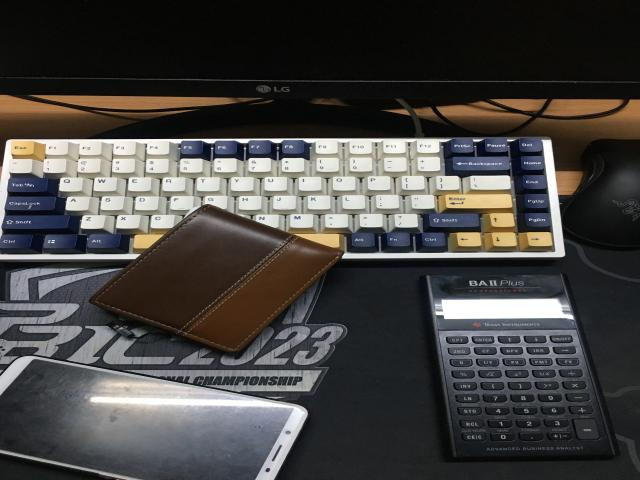Mobile phone: (0, 355, 307, 480)
Mouse: (562, 139, 640, 248)
Wallet: (90, 204, 343, 352)
